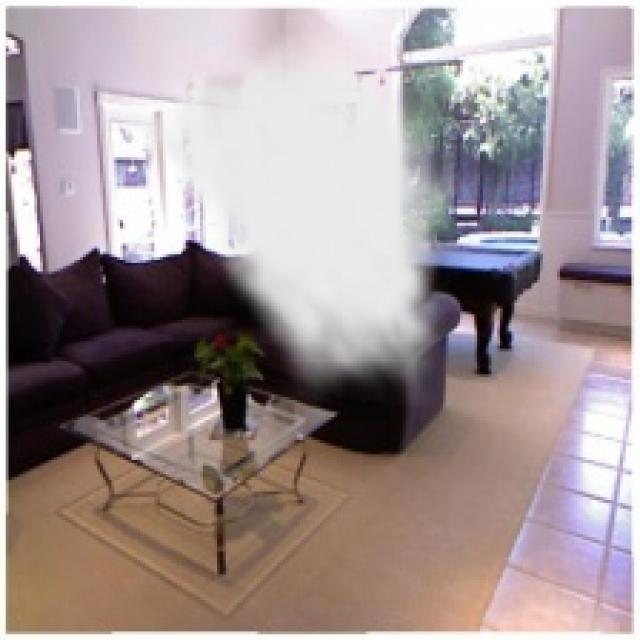Smoke: (103, 26, 460, 408)
